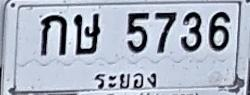3: (180, 11, 202, 52)
5: (127, 12, 149, 53)
6: (208, 11, 230, 51)
7: (154, 11, 177, 53)
A01: (40, 14, 67, 56)
A39: (73, 12, 100, 54)
RYG: (89, 67, 162, 91)
